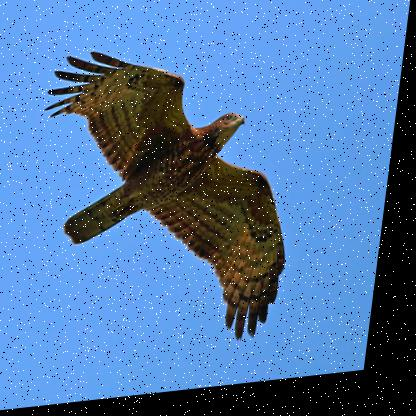Burung: (24, 23, 320, 368)
